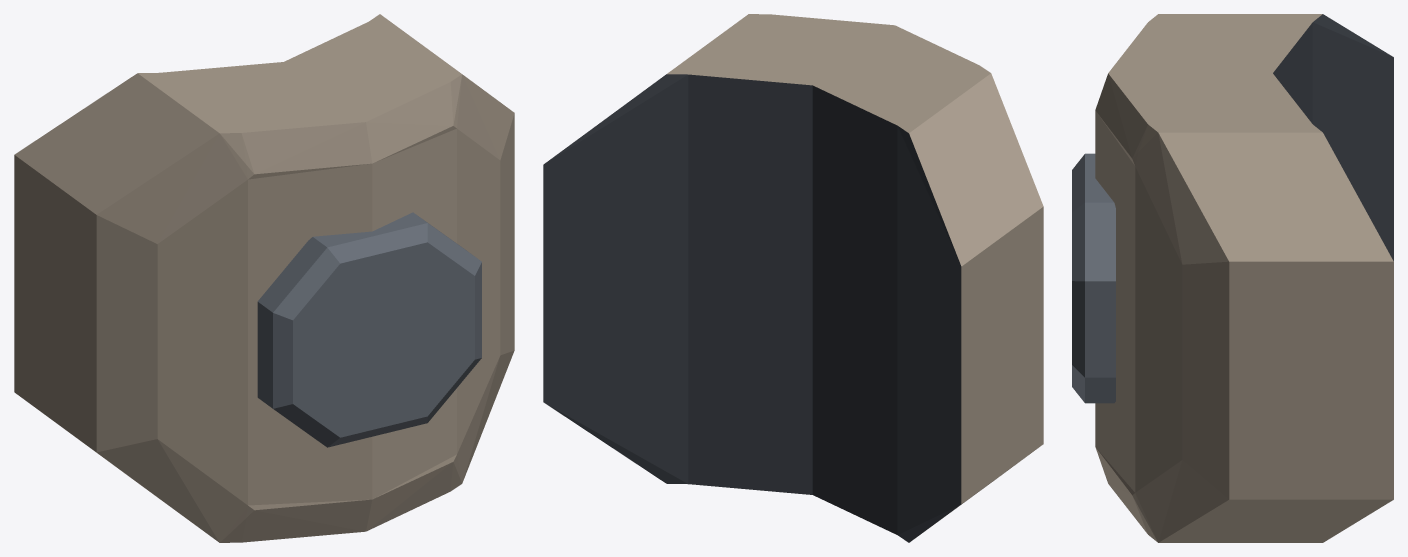
Rendered from knee_light.glb.
The picture shows the model from 3 angles, left to right: view 1: azimuth 30°, elevation 25°; view 2: azimuth 150°, elevation 25°; view 3: azimuth 270°, elevation 25°; orthographic projection.
Visible parts, largest first — view 1: knee_light; view 2: knee_light; view 3: knee_light.
Part boxes in pixels (x1,y1,x2,y2): knee_light: [14, 14, 514, 542]; knee_light: [543, 14, 1043, 542]; knee_light: [1072, 14, 1393, 542].
Size of the model in its own units: 0.94 by 0.88 by 0.6252.
